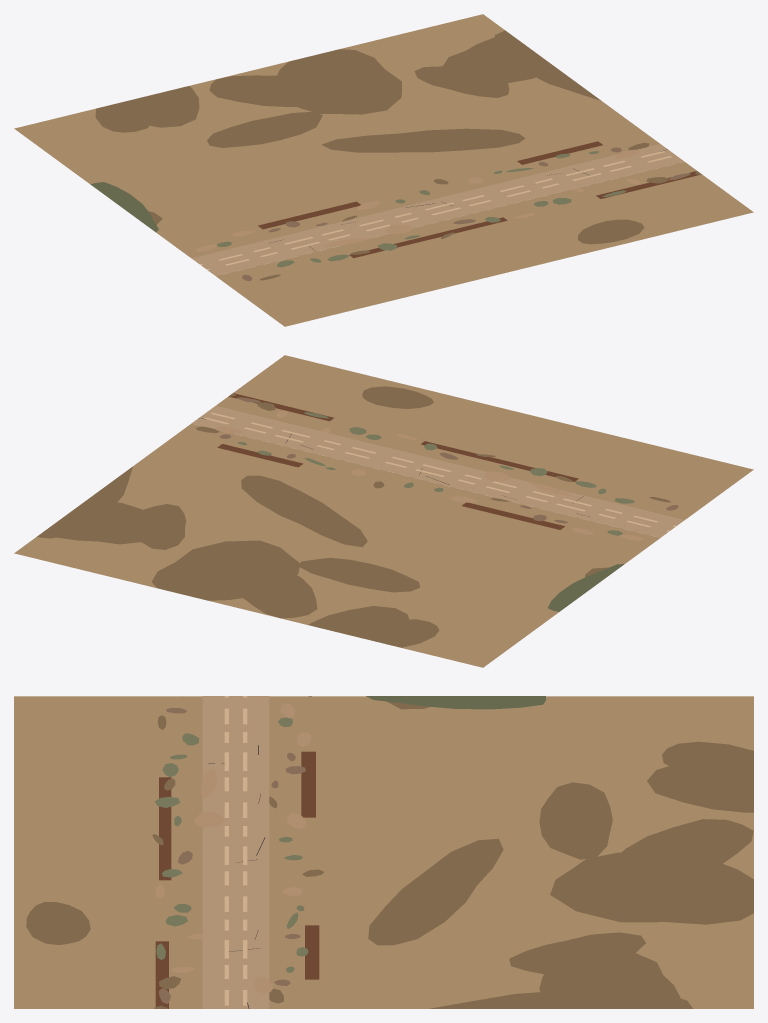
The model's file is crossing-6-3.glb.
3 renders of one model, top to bottom at view 1: azimuth 30°, elevation 25°; view 2: azimuth 150°, elevation 25°; view 3: azimuth 270°, elevation 25°, orthographic. The views are drawn at different scales.
Parts seen in each view (by area): view 1: crossing-6-3; view 2: crossing-6-3; view 3: crossing-6-3.
Part boxes in pixels (left/top/right/bottom): crossing-6-3: left=14, top=14, right=753, bottom=326; crossing-6-3: left=14, top=355, right=753, bottom=667; crossing-6-3: left=14, top=696, right=753, bottom=1008.
Bounding box in the file's own units: 100 × 0.0135 × 100.
